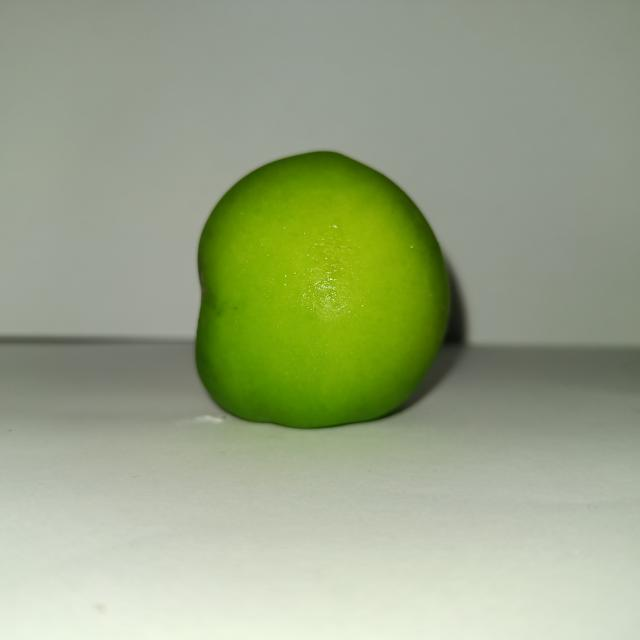Red: (193, 148, 454, 429)
